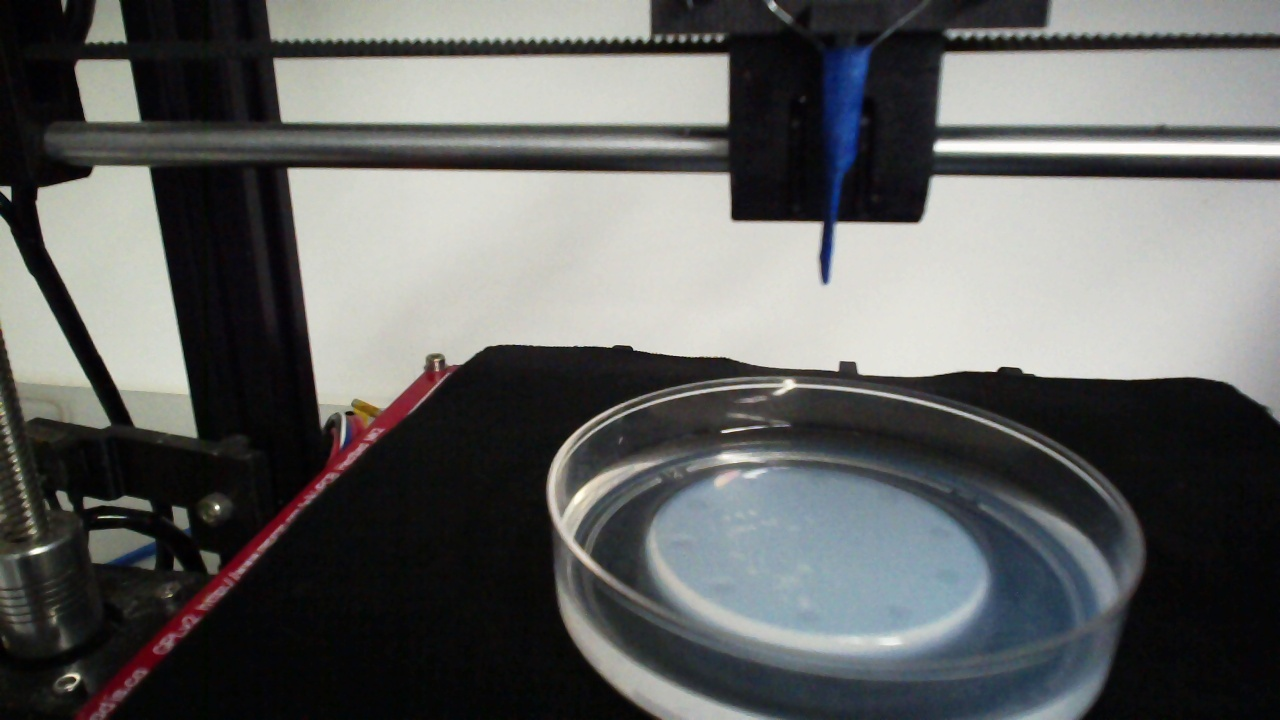groove: (875, 485, 903, 508), (932, 566, 964, 586), (928, 524, 957, 546), (709, 578, 739, 599), (795, 605, 825, 625), (887, 603, 914, 624), (667, 534, 695, 552), (684, 495, 709, 513)
needle: (821, 48, 872, 284)
